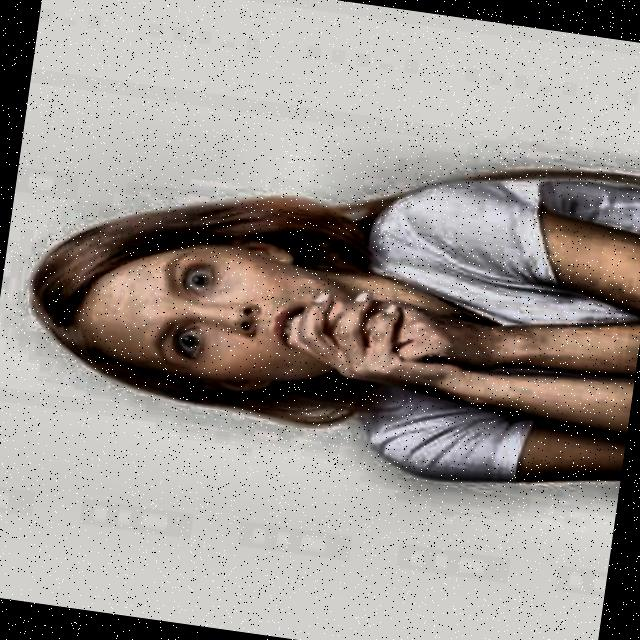fear: (31, 183, 406, 433)
